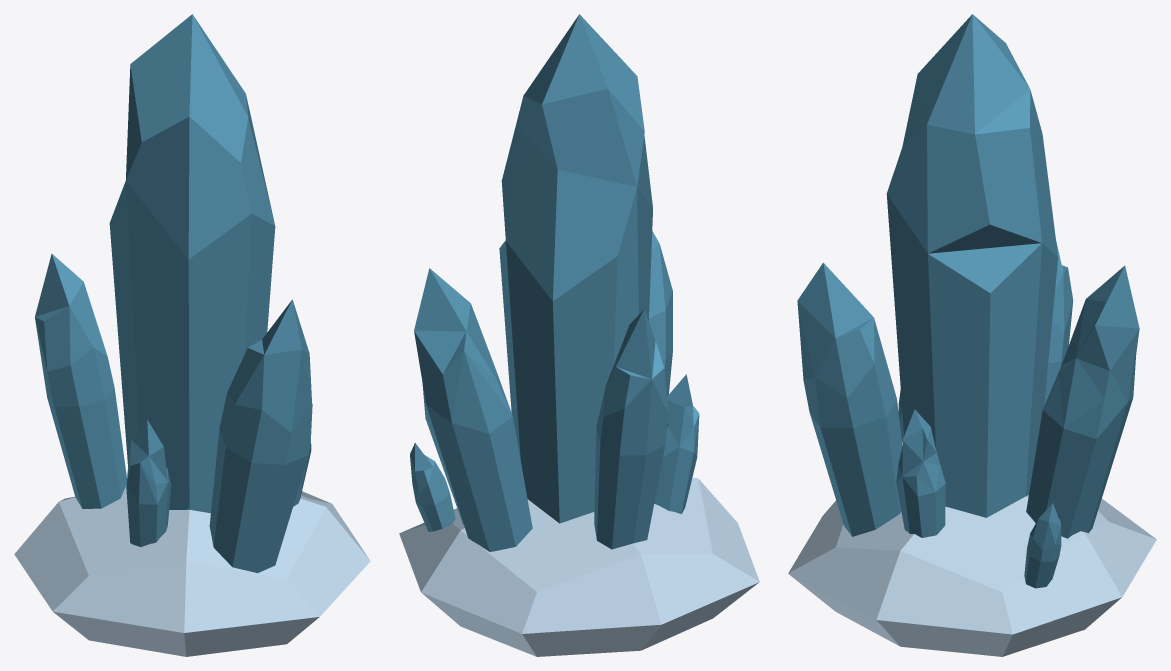
The model's file is Isl_19_Crystal_2.fbx.
3 renders of one model, left to right at view 1: azimuth 30°, elevation 25°; view 2: azimuth 150°, elevation 25°; view 3: azimuth 270°, elevation 25°, orthographic.
Visible parts, largest first — view 1: Isl_19_Crystal_2; view 2: Isl_19_Crystal_2; view 3: Isl_19_Crystal_2.
Boxes of the visible parts, box(x1,y1,x2,y2) form: Isl_19_Crystal_2: box(14, 14, 370, 656); Isl_19_Crystal_2: box(399, 14, 759, 656); Isl_19_Crystal_2: box(788, 14, 1156, 656).
Bounding box in the file's own units: 98.62 × 98.62 × 173.
Materials: 1 (1 with a texture image).
